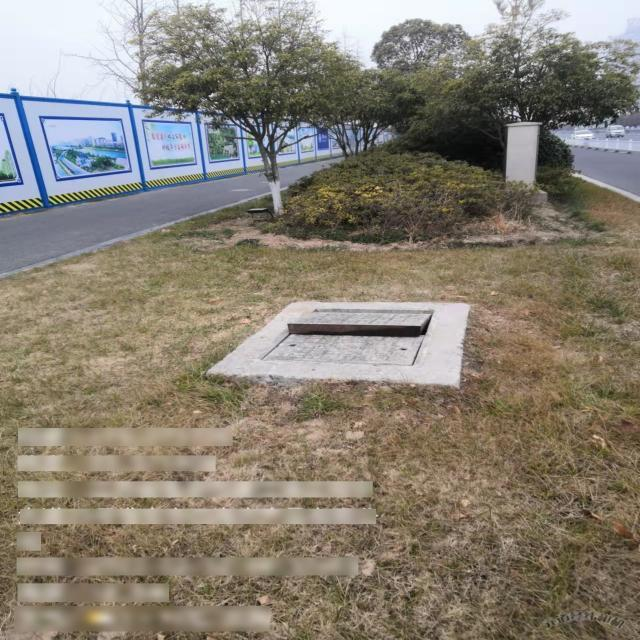Faulty: (252, 306, 436, 374)
